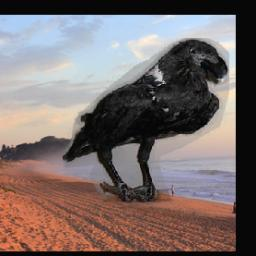Crow: (64, 38, 230, 202)
